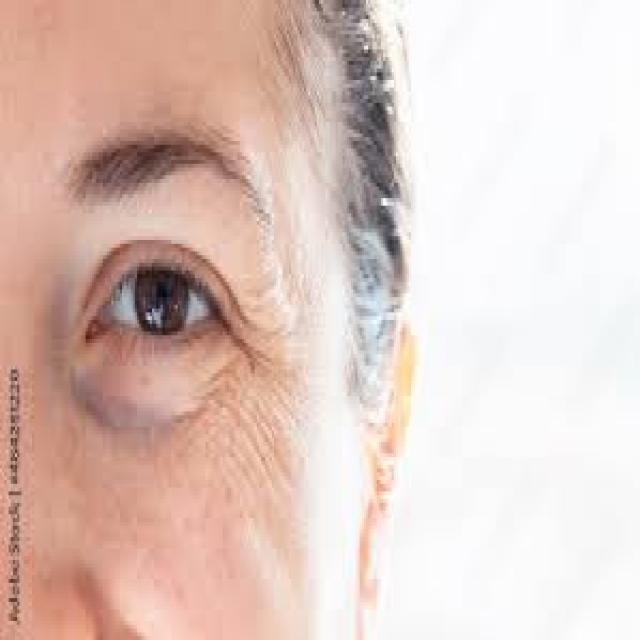Wrinkles: (198, 306, 305, 509)
